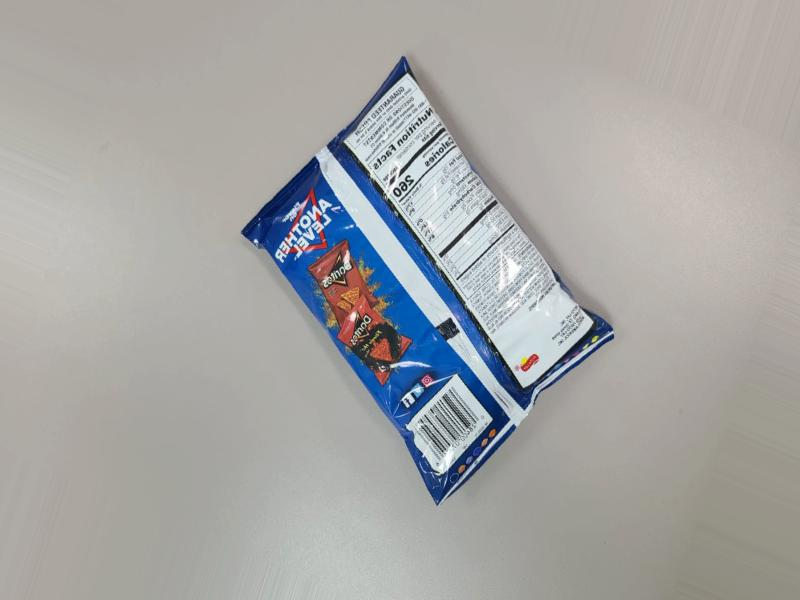doritos: (264, 89, 689, 567)
